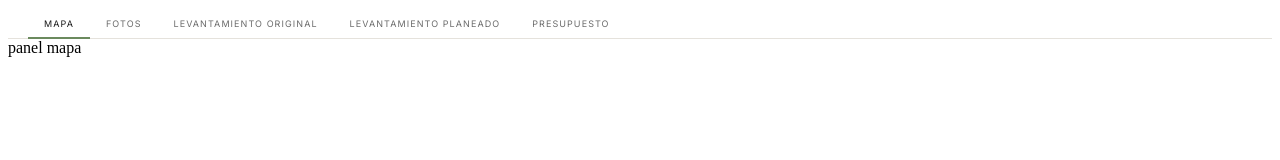
Scenario: MediaTabs › switches to the tab that was clicked
What coordinates should you click on to do the following:
click the button "LEVANTAMIENTO ORIGINAL"
I would click on:
 (246, 24)
Its box is top-left (158, 8), bottom-right (334, 39).
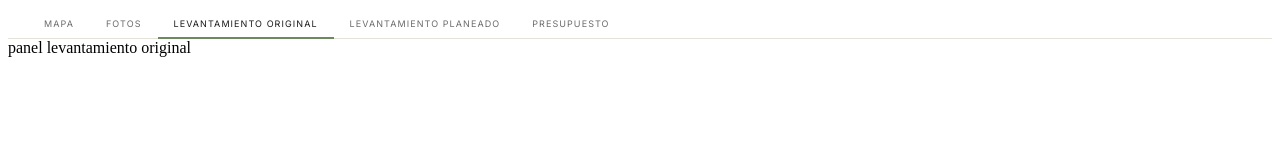
Now the text "panel levantamiento original" is shown, box top-left (8, 39), bottom-right (191, 56)
Now the text "panel mapa" is gone
